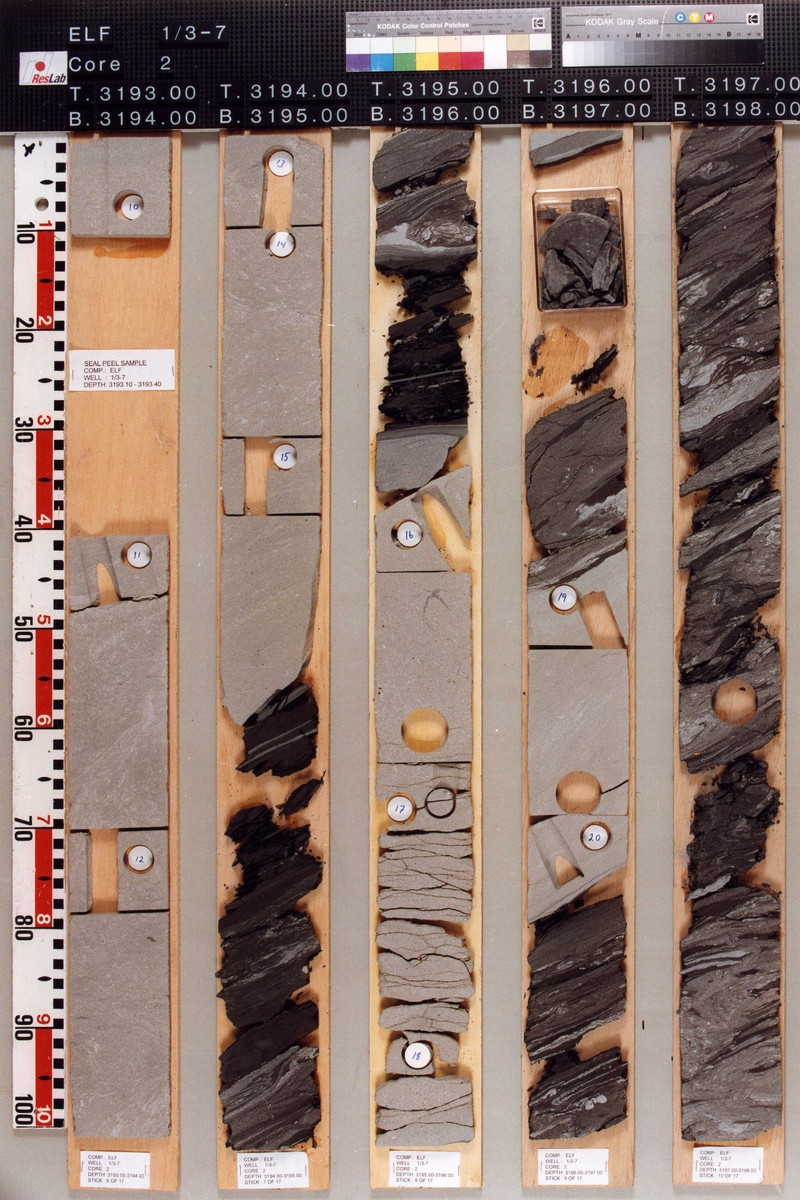core: (672, 122, 788, 1142), (524, 127, 637, 1145), (371, 131, 478, 1145), (221, 134, 325, 1152), (63, 530, 174, 1148), (63, 134, 173, 247)
